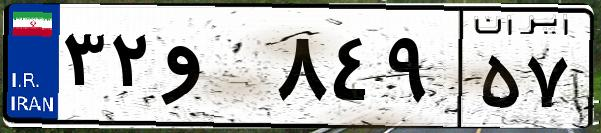2: (110, 28, 158, 98)
3: (57, 26, 110, 100)
4: (330, 28, 385, 110)
5: (475, 38, 525, 113)
7: (525, 38, 570, 115)
8: (270, 28, 330, 110)
9: (385, 28, 445, 110)
و: (158, 20, 270, 120)
